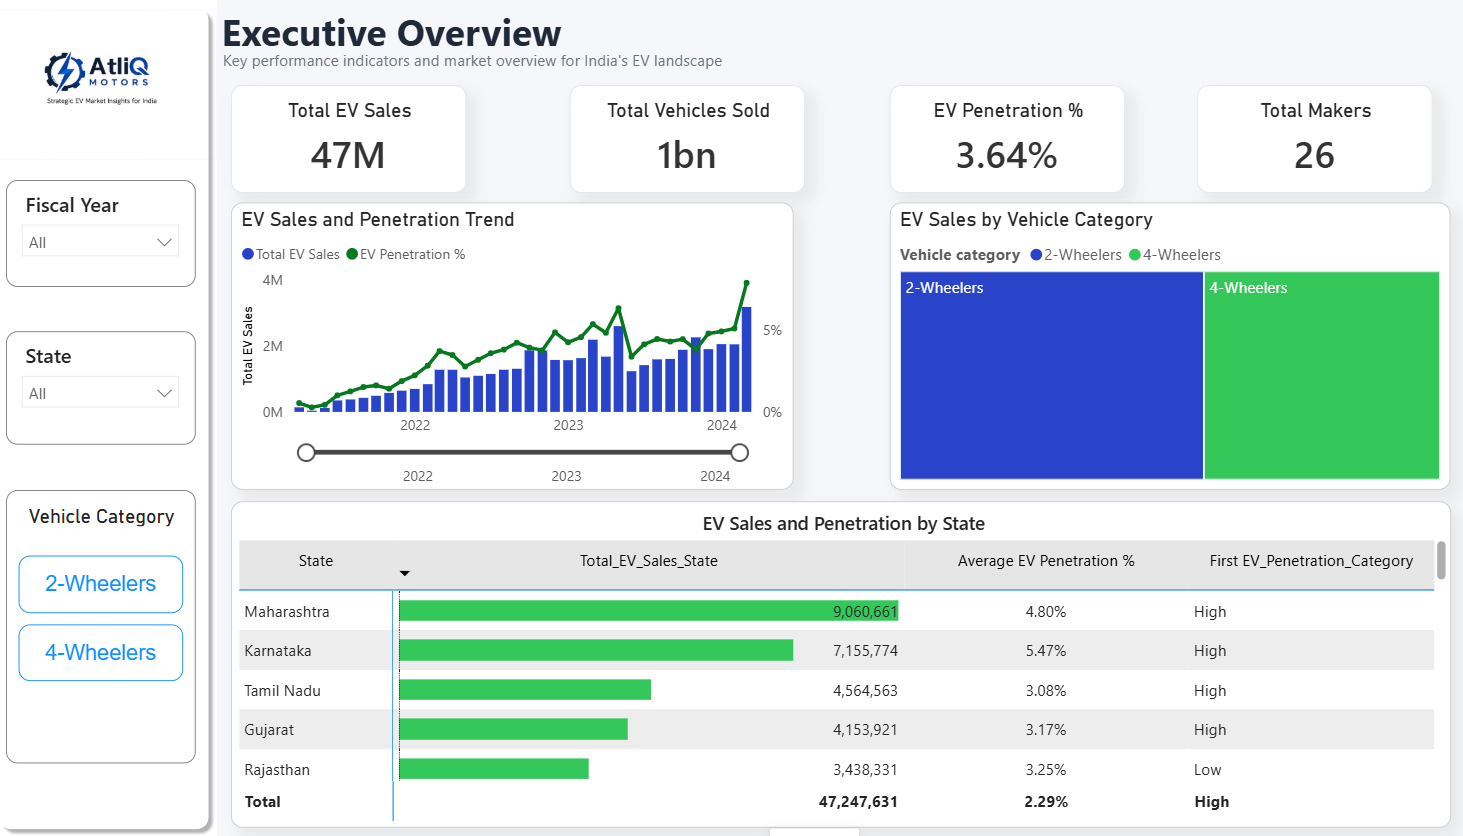

The dashboard page shown, as its layout file describes it:
{"tool":"powerbi","page":{"name":"Executive Overview","canvas":[1280,720],"ordinal":1},"visuals":[{"type":"shape","box":[0,0,194.2,720.2],"z":0},{"type":"image","box":[0,0,194.2,146],"z":1000},{"type":"textbox","title":"Executive Overview","box":[182.2,0,325.7,73.6],"z":2000},{"type":"textbox","box":[194.2,37.4,453.6,43.4],"z":3000},{"type":"slicer","fields":{"Values":["Atliq.Fiscal_year"]},"box":[13.3,154.4,162.9,91.7],"z":4000},{"type":"slicer","fields":{"Values":["Atliq.State"]},"box":[13.3,284.7,162.9,97.7],"z":5000},{"type":"card","title":"Total EV Sales","fields":{"Values":["Measure.Total_EV_Sales_State"]},"box":[206.3,73.6,202.7,92.9],"z":6000},{"type":"card","title":"Total Vehicles Sold","fields":{"Values":["Measure.Total_Vehicles_Sold"]},"box":[498.3,73.6,202.7,92.9],"z":7000},{"type":"card","title":"EV Penetration %","fields":{"Values":["Measure.EV_Penetration_%"]},"box":[773.3,73.6,202.7,92.9],"z":8000},{"type":"card","title":"Total Makers","fields":{"Values":["Measure.Total Makers"]},"box":[1037.5,73.6,202.7,92.9],"z":9000},{"type":"lineClusteredColumnComboChart","title":"EV Sales and Penetration Trend","fields":{"Y":["Measure.Total_EV_Sales_State"],"Y2":["Measure.EV_Penetration_%"],"Category":["Atliq.Date"]},"box":[206.3,173.7,483.8,247.3],"z":10000},{"type":"treemap","title":"EV Sales by Vehicle Category","fields":{"Group":["Atliq.Vehicle_category"],"Values":["Measure.Total_EV_Sales_State"]},"box":[773.3,173.7,482.6,247.3],"z":11000},{"type":"pivotTable","title":"EV Sales and Penetration by State","fields":{"Rows":["Atliq.State"],"Values":["Measure.Total_EV_Sales_State","Measure.Average EV Penetration","Min(Atliq.EV_Penetration_Category)"]},"box":[206.3,430.7,1049.6,281.1],"z":12000},{"type":"ChicletSlicer1448559807354","title":"Vehicle Category","fields":{"Category":["Atliq.Vehicle_category"]},"box":[13.3,421,162.9,235.3],"z":13000}]}

Visuals, with their boxes in screenshot pixels (x1, y1, x2, y2), scaled from the page's 1280x720 canvas onto the 1463x836 screenshot:
shape: [left=0, top=0, right=222, bottom=835]
image: [left=0, top=0, right=222, bottom=170]
"Executive Overview" textbox: [left=208, top=0, right=581, bottom=85]
textbox: [left=222, top=43, right=740, bottom=94]
slicer - Atliq.Fiscal_year: [left=15, top=179, right=201, bottom=286]
slicer - Atliq.State: [left=15, top=331, right=201, bottom=444]
"Total EV Sales" card: [left=236, top=85, right=467, bottom=193]
"Total Vehicles Sold" card: [left=570, top=85, right=801, bottom=193]
"EV Penetration %" card: [left=884, top=85, right=1116, bottom=193]
"Total Makers" card: [left=1186, top=85, right=1418, bottom=193]
"EV Sales and Penetration Trend" lineClusteredColumnComboChart: [left=236, top=202, right=789, bottom=489]
"EV Sales by Vehicle Category" treemap: [left=884, top=202, right=1435, bottom=489]
"EV Sales and Penetration by State" pivotTable: [left=236, top=500, right=1435, bottom=826]
"Vehicle Category" ChicletSlicer1448559807354: [left=15, top=489, right=201, bottom=762]
